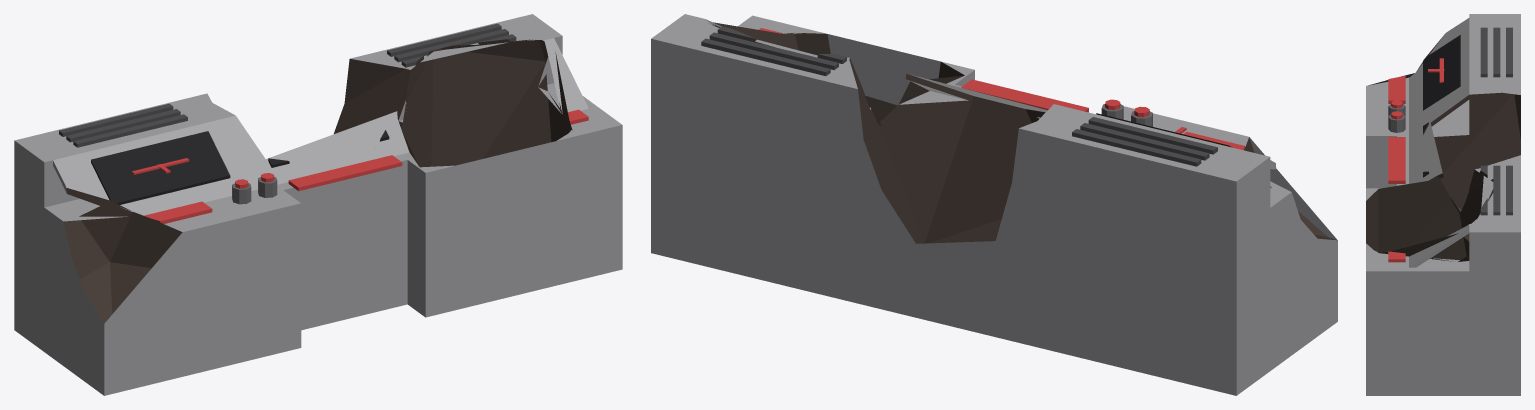
File: vge_d_targetingconsole.obj
3 renders of one model, left to right at view 1: azimuth 30°, elevation 25°; view 2: azimuth 150°, elevation 25°; view 3: azimuth 270°, elevation 25°, orthographic. The views are drawn at different scales.
Visible parts, largest first — view 1: vge_d_targetingconsole; view 2: vge_d_targetingconsole; view 3: vge_d_targetingconsole.
Part boxes in pixels (x1,y1,x2,y2): vge_d_targetingconsole: [14, 14, 622, 395]; vge_d_targetingconsole: [651, 14, 1337, 395]; vge_d_targetingconsole: [1366, 14, 1520, 395].
Size of the model in its own units: 3 by 1.07 by 0.9.
